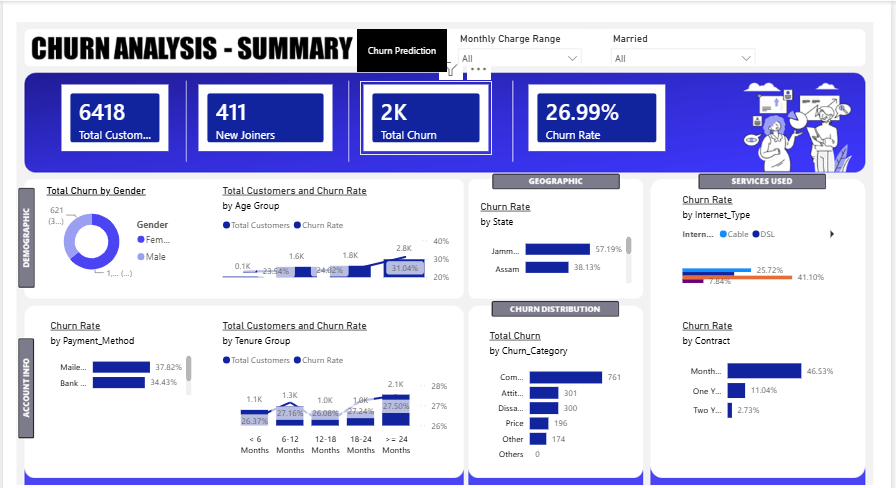

The dashboard page shown, as its layout file describes it:
{"tool":"powerbi","page":{"name":"Summary","canvas":[1280,720],"ordinal":0},"visuals":[{"type":"cardVisual","fields":{"Data":["tbl_Measures.Total Customers"]},"box":[79.2,115.2,164.2,106.6],"z":0},{"type":"cardVisual","fields":{"Data":["tbl_Measures.New Joiners"]},"box":[276.5,115.2,203,106.6],"z":1000},{"type":"cardVisual","fields":{"Data":["tbl_Measures.Total Churn"]},"box":[514.1,115.2,190.1,106.6],"z":2000},{"type":"cardVisual","fields":{"Data":["tbl_Measures.Churn Rate"]},"box":[751.7,115.2,207.4,106.6],"z":3000},{"type":"donutChart","fields":{"Category":["prod_Churn.Gender"],"Y":["tbl_Measures.Total Churn"]},"box":[57.6,265,205.9,146.9],"z":4000},{"type":"lineStackedColumnComboChart","fields":{"Category":["mapping_AgeGrp.Age Group"],"Y":["tbl_Measures.Total Customers"],"Y2":["tbl_Measures.Churn Rate"]},"box":[311,265,337,146.9],"z":5000},{"type":"clusteredBarChart","fields":{"Category":["prod_Churn.Payment_Method"],"Y":["tbl_Measures.Churn Rate"]},"box":[63.4,459.4,213.1,113.8],"z":6000},{"type":"clusteredBarChart","fields":{"Category":["prod_Churn.Contract"],"Y":["tbl_Measures.Churn Rate"]},"box":[973.4,459.4,227.5,158.4],"z":7000},{"type":"lineStackedColumnComboChart","fields":{"Category":["mapping_TenureGrp.Tenure Group"],"Y":["tbl_Measures.Total Customers"],"Y2":["tbl_Measures.Churn Rate"]},"box":[311,459.4,334.1,203],"z":8000},{"type":"clusteredBarChart","fields":{"Y":["tbl_Measures.Churn Rate"],"Category":["prod_Churn.State"]},"box":[682.6,288,227.5,123.8],"z":9000},{"type":"clusteredBarChart","fields":{"Y":["tbl_Measures.Total Churn"],"Category":["prod_Churn.Churn_Category"]},"box":[695.5,473.8,200.2,201.6],"z":10000},{"type":"clusteredBarChart","fields":{"Series":["prod_Churn.Internet_Type"],"Y":["tbl_Measures.Churn Rate"]},"box":[973.4,277.9,240.5,162.7],"z":11000},{"type":"slicer","fields":{"Values":["prod_Churn.Monthly Charge Status"]},"box":[645.6,40,197.8,51.1],"z":12000},{"type":"slicer","fields":{"Values":["prod_Churn.Married"]},"box":[865.6,40,227.8,51.1],"z":13000},{"type":"shape","box":[509.8,40.3,129.6,61.9],"z":14000}]}

Visuals, with their boxes on the page's 1280x720 design canvas (x1, y1, x2, y2). These are canvas units, not pixel positions in the 896x488 screenshot, which may show the page scaled, cropped or inside an application window:
cardVisual - tbl_Measures.Total Customers: l=79, t=115, r=243, b=222
cardVisual - tbl_Measures.New Joiners: l=276, t=115, r=480, b=222
cardVisual - tbl_Measures.Total Churn: l=514, t=115, r=704, b=222
cardVisual - tbl_Measures.Churn Rate: l=752, t=115, r=959, b=222
donutChart - prod_Churn.Gender x tbl_Measures.Total Churn: l=58, t=265, r=264, b=412
lineStackedColumnComboChart - mapping_AgeGrp.Age Group x tbl_Measures.Total Customers: l=311, t=265, r=648, b=412
clusteredBarChart - prod_Churn.Payment_Method x tbl_Measures.Churn Rate: l=63, t=459, r=276, b=573
clusteredBarChart - prod_Churn.Contract x tbl_Measures.Churn Rate: l=973, t=459, r=1201, b=618
lineStackedColumnComboChart - mapping_TenureGrp.Tenure Group x tbl_Measures.Total Customers: l=311, t=459, r=645, b=662
clusteredBarChart - tbl_Measures.Churn Rate x prod_Churn.State: l=683, t=288, r=910, b=412
clusteredBarChart - tbl_Measures.Total Churn x prod_Churn.Churn_Category: l=696, t=474, r=896, b=675
clusteredBarChart - prod_Churn.Internet_Type x tbl_Measures.Churn Rate: l=973, t=278, r=1214, b=441
slicer - prod_Churn.Monthly Charge Status: l=646, t=40, r=843, b=91
slicer - prod_Churn.Married: l=866, t=40, r=1093, b=91
shape: l=510, t=40, r=639, b=102
